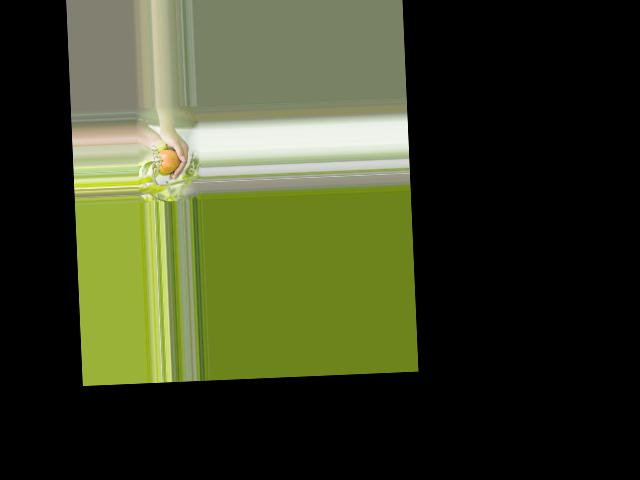tomato: (155, 149, 179, 172)
